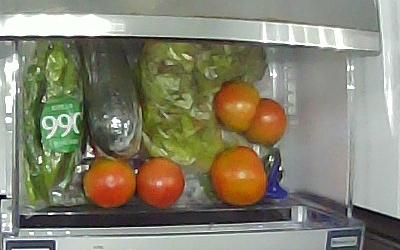tomato: (208, 145, 268, 206), (81, 156, 137, 208), (135, 155, 185, 209), (212, 78, 259, 132), (241, 97, 287, 146)
